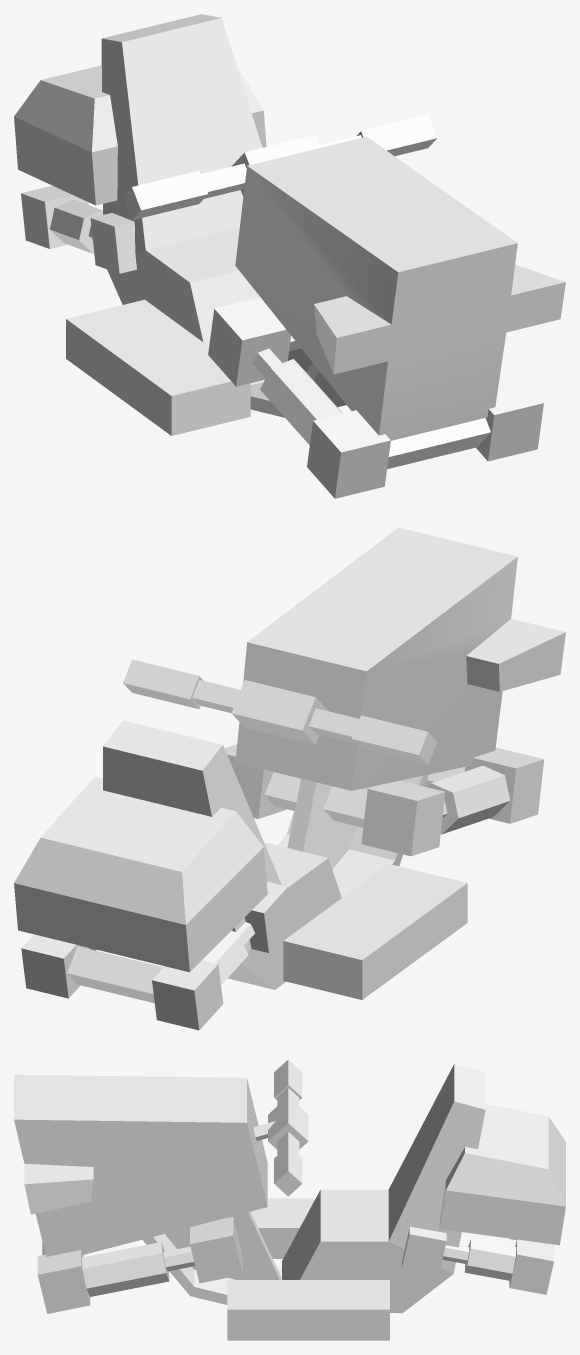
Rendered from Bike 2 Body.glb.
The picture shows the model from 3 angles, top to bottom: view 1: azimuth 30°, elevation 25°; view 2: azimuth 150°, elevation 25°; view 3: azimuth 270°, elevation 25°; orthographic projection. The views are drawn at different scales.
Parts seen in each view (by area): view 1: body, interior; view 2: body, interior; view 3: body, interior.
Boxes of the visible parts, x1=… form: body: x1=14, y1=65, x2=565, y2=440; interior: x1=21, y1=14, x2=543, y2=498; body: x1=14, y1=527, x2=565, y2=999; interior: x1=21, y1=659, x2=544, y2=1030; body: x1=14, y1=1074, x2=565, y2=1340; interior: x1=37, y1=1059, x2=553, y2=1313.
Size of the model in its own units: 1.88 by 1.7 by 3.94.
Materials: 1 (1 with a texture image).
